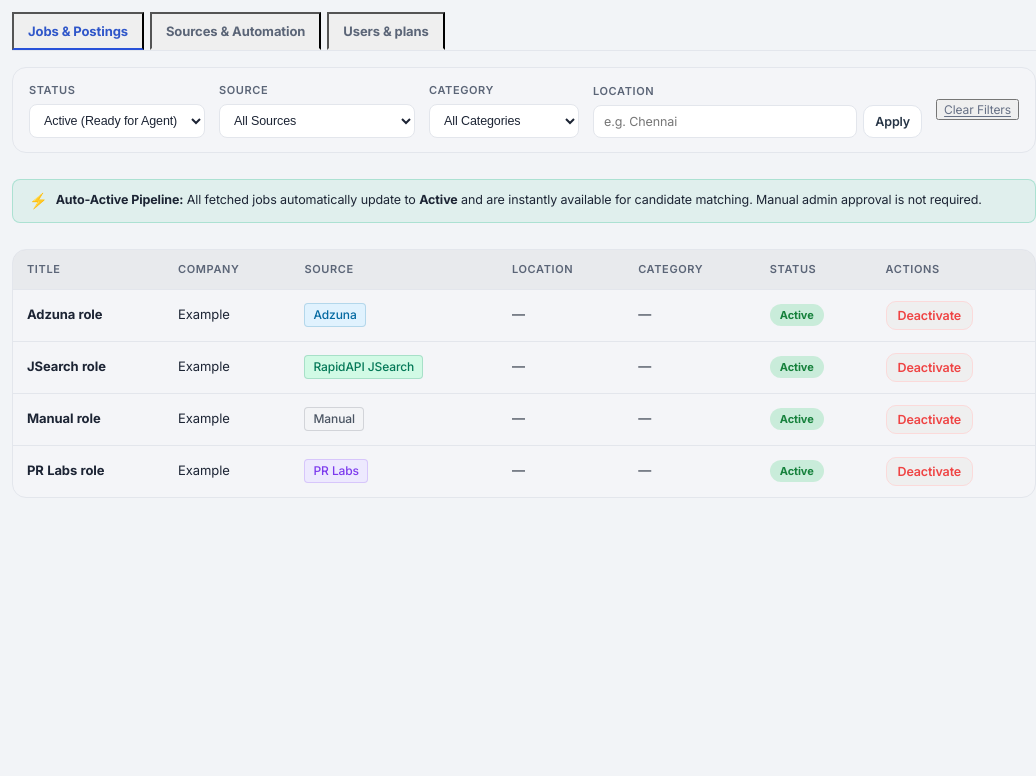
Test: sources tab shows free-plan usage and the next days' role and city plan
Click the button "Sources & Automation". click: (236, 31)
box: [150,12,321,50]
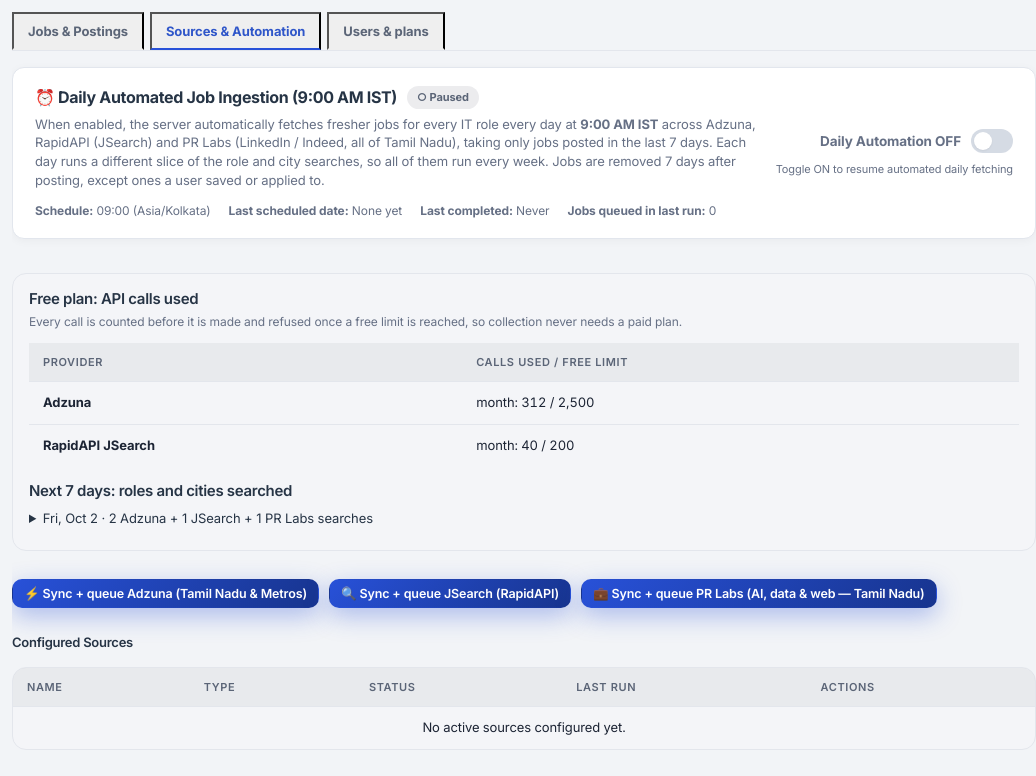
Now the heading "Free plan: API calls used" is shown, box [29,289,198,308]
Now the text "month: 312 / 2,500" is shown, box [462,382,1019,424]
Now the text "month: 40 / 200" is shown, box [462,424,1019,466]
